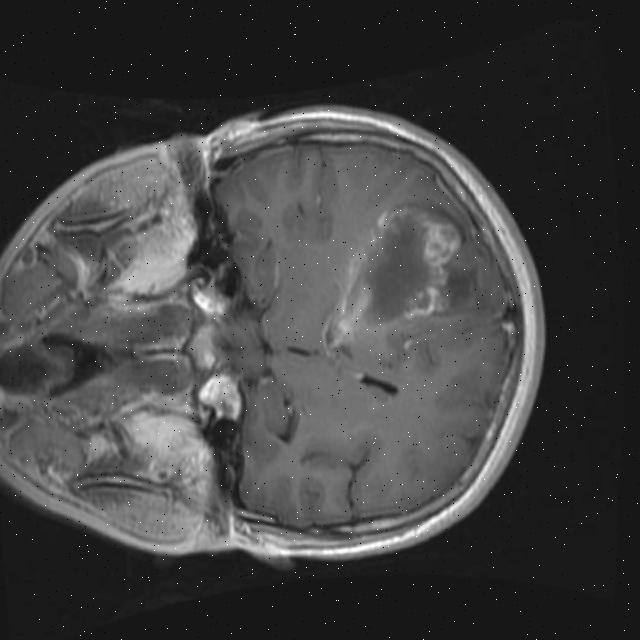Glioma: (310, 196, 474, 345)
Pituitary: (181, 320, 222, 374)
